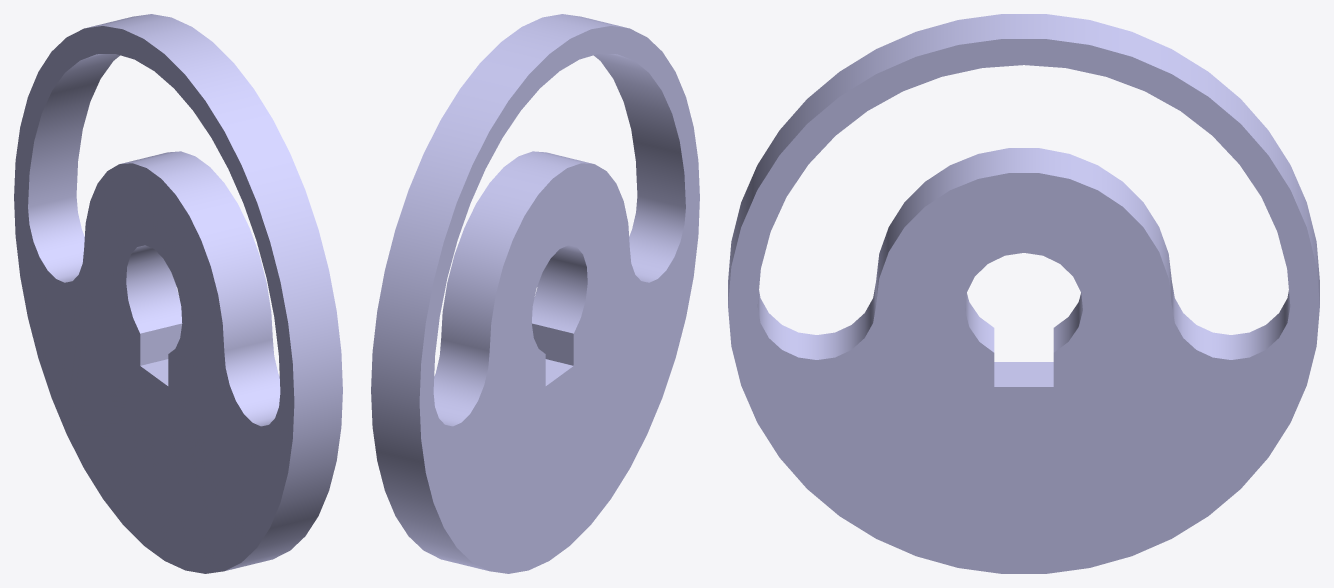
File: 9 Junta 1.fbx
The picture shows the model from 3 angles, left to right: view 1: azimuth 30°, elevation 25°; view 2: azimuth 150°, elevation 25°; view 3: azimuth 270°, elevation 25°; orthographic projection. The views are drawn at different scales.
Parts seen in each view (by area): view 1: PartBody; view 2: PartBody; view 3: PartBody.
Part boxes in pixels (box(x1,y1,x2,y2)): PartBody: box(14, 14, 342, 573); PartBody: box(371, 14, 699, 573); PartBody: box(728, 14, 1319, 573).
Bounding box in the file's own units: 0.5 × 4.99 × 5.
